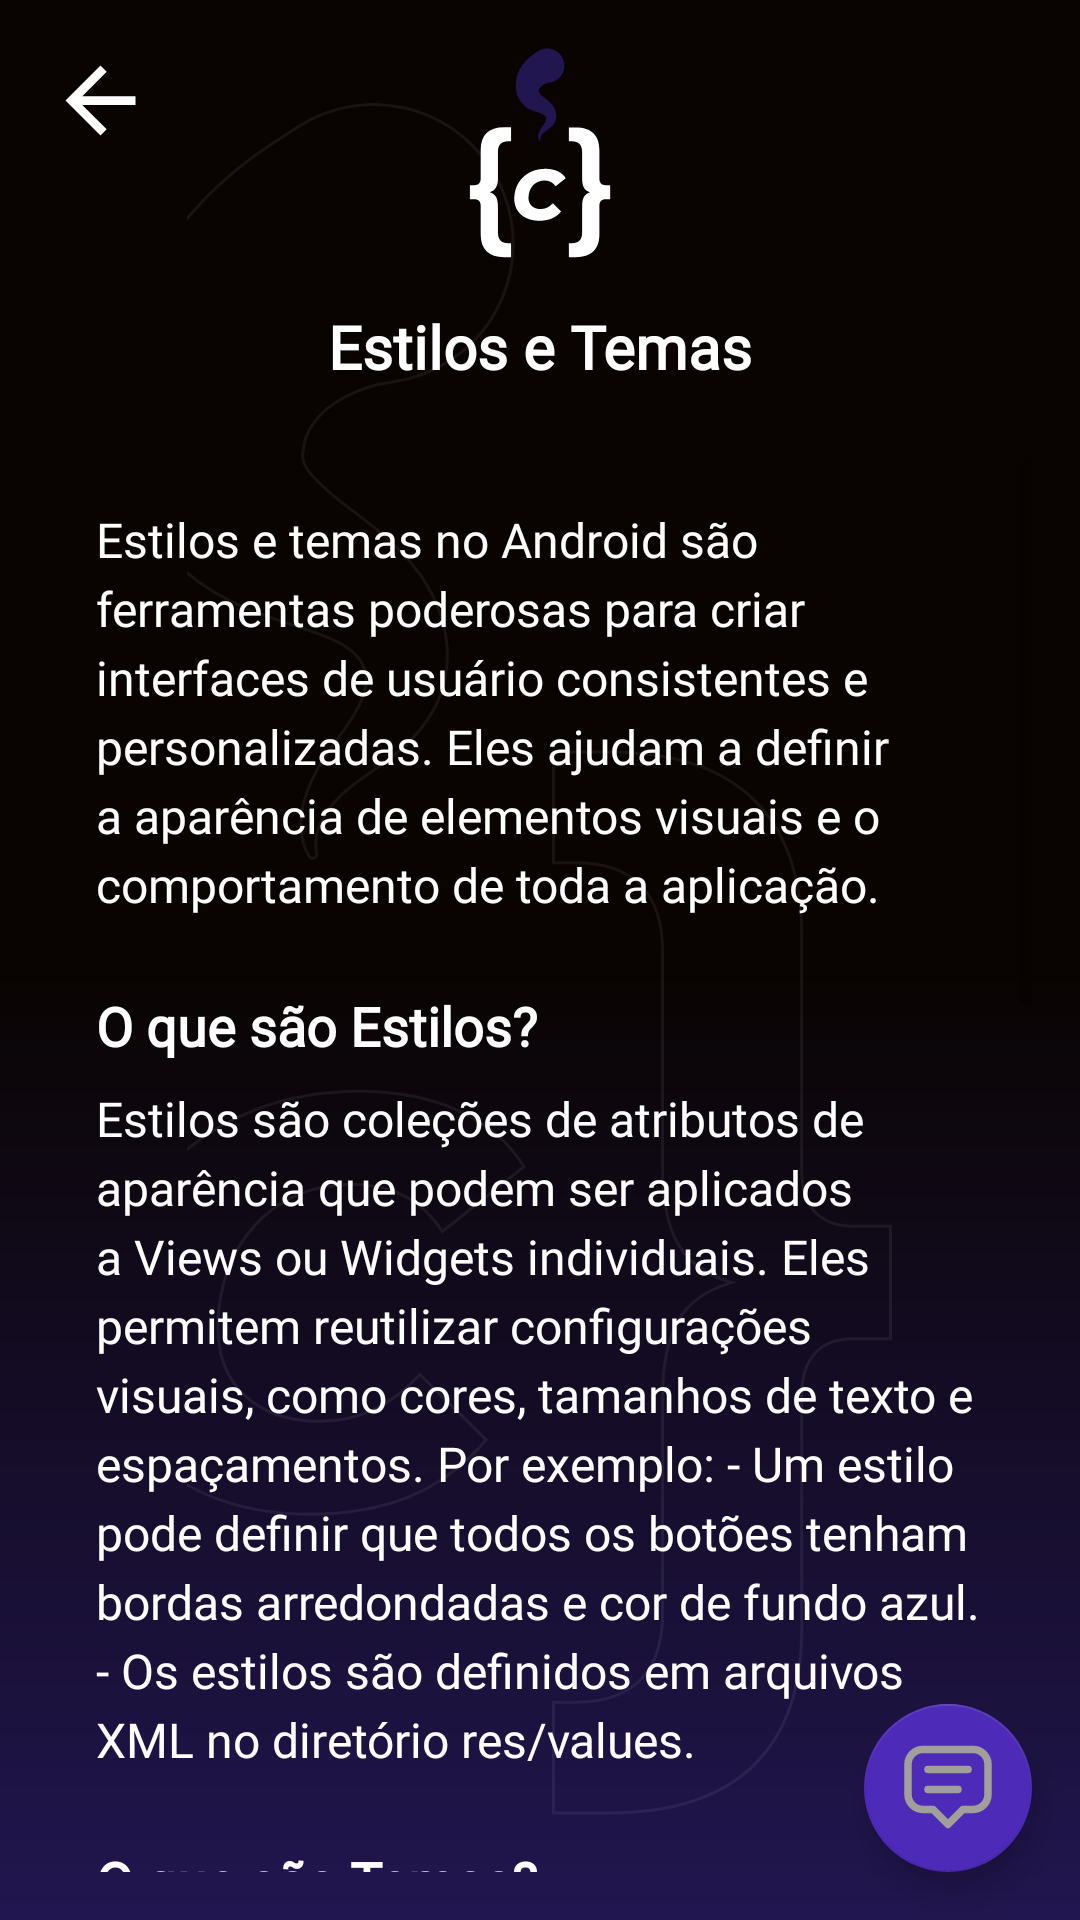

Where icons sit on this 1080*1920 app screen, as box(x1, y1, x2, y2):
Botão para abrir o chat de IA: box(864, 1704, 1032, 1872)
Voltar: box(65, 65, 136, 136)
